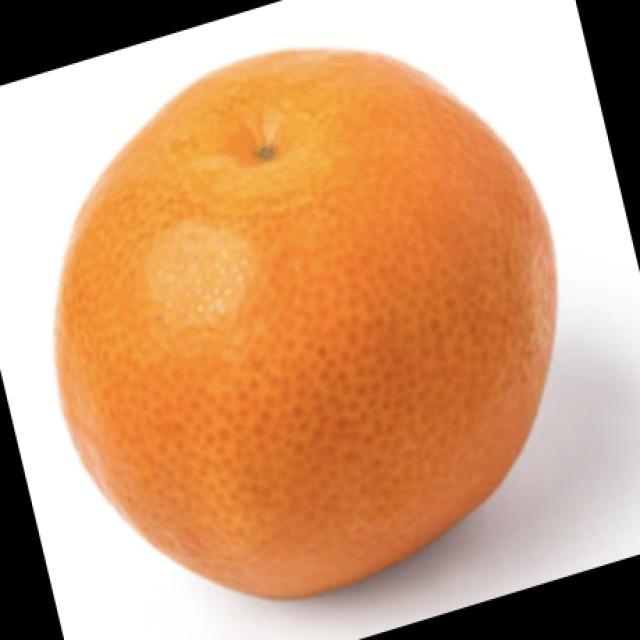matang: (58, 51, 555, 595)
